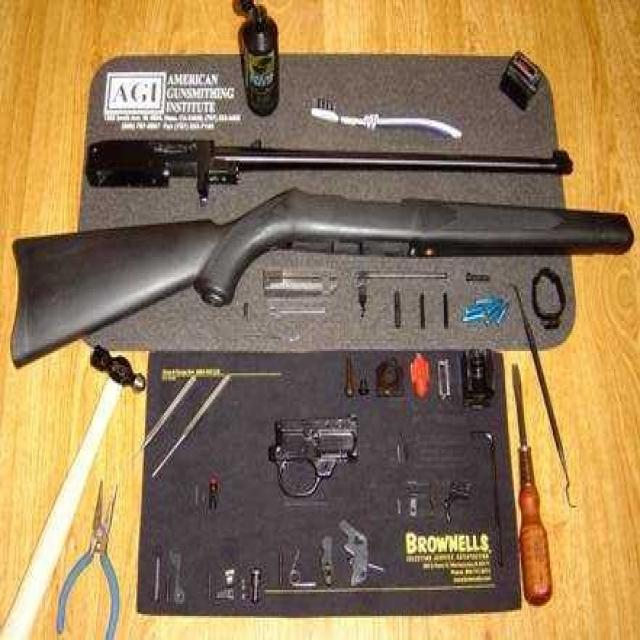heavyweapon: (1, 142, 640, 380)
